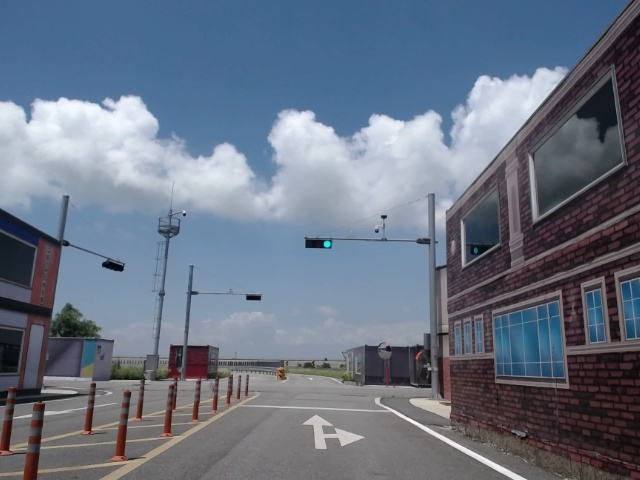green_3: (306, 239, 331, 248)
